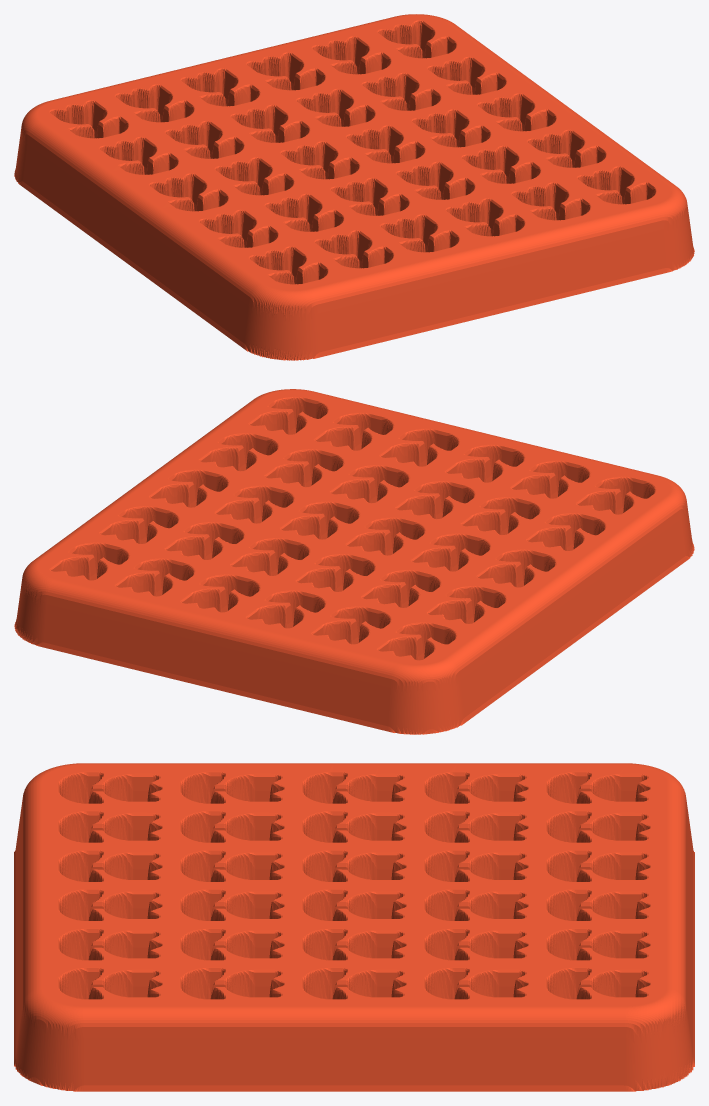
File: mold.glb
3 views of the same model, one above another, from view 1: azimuth 30°, elevation 25°; view 2: azimuth 150°, elevation 25°; view 3: azimuth 270°, elevation 25° (orthographic). The views are drawn at different scales.
Parts seen in each view (by area): view 1: geometry_0; view 2: geometry_0; view 3: geometry_0.
Part boxes in pixels (x1,y1,x2,y2): geometry_0: (14, 14, 694, 360); geometry_0: (14, 389, 694, 734); geometry_0: (14, 763, 694, 1091).
Size of the model in its own units: 0.0812 by 0.0105 by 0.0882.
